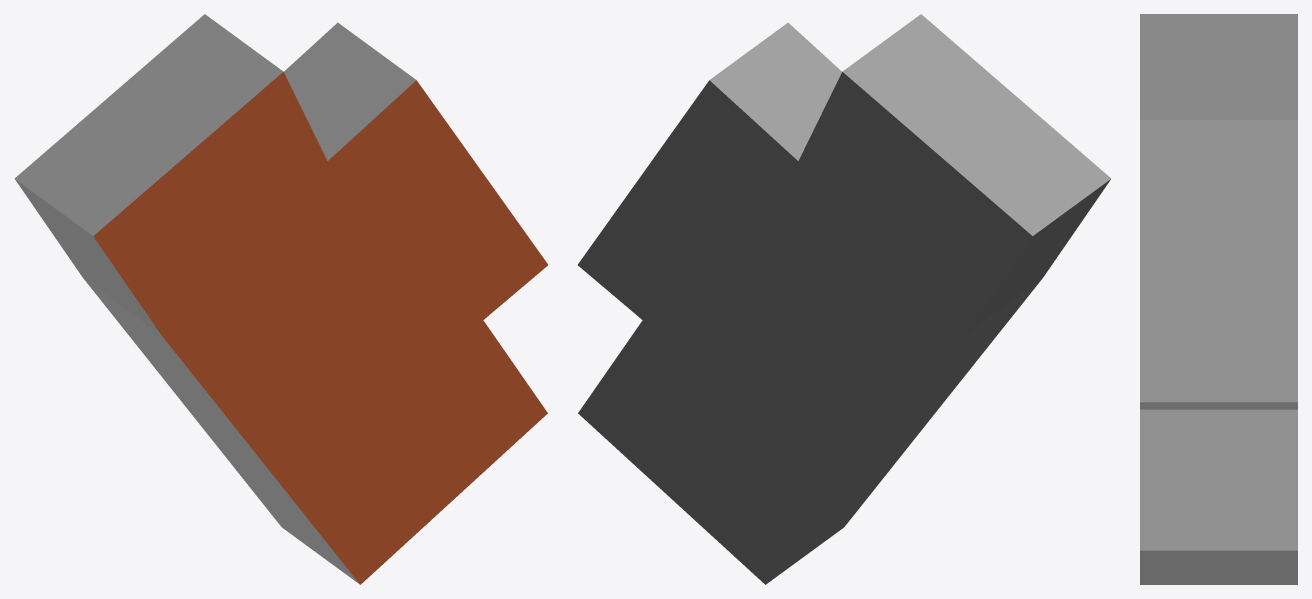
File: construction_4259_assumed_A_Casa_h6m.obj
The picture shows the model from 3 angles, left to right: view 1: azimuth 30°, elevation 25°; view 2: azimuth 150°, elevation 25°; view 3: azimuth 270°, elevation 25°; orthographic projection.
Visible parts, largest first — view 1: construction_4259_assumed_A_Casa; view 2: construction_4259_assumed_A_Casa; view 3: construction_4259_assumed_A_Casa.
Part boxes in pixels (x1,y1,x2,y2): construction_4259_assumed_A_Casa: (14, 14, 547, 584); construction_4259_assumed_A_Casa: (578, 14, 1111, 584); construction_4259_assumed_A_Casa: (1140, 14, 1297, 584).
Bounding box in the file's own units: 20.02 × 22.36 × 6.
